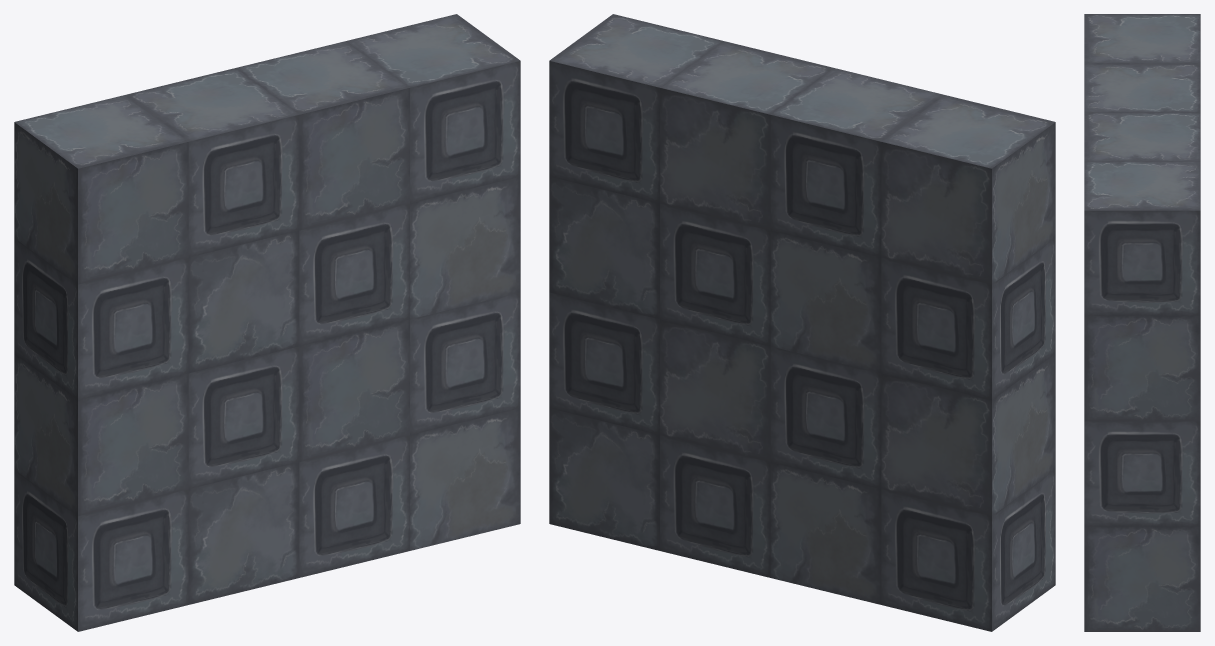
Rendered from Castle Sig Sag 4x4.fbx.
3 renders of one model, left to right at view 1: azimuth 30°, elevation 25°; view 2: azimuth 150°, elevation 25°; view 3: azimuth 270°, elevation 25°, orthographic. The views are drawn at different scales.
Visible parts, largest first — view 1: Castle Sig Sag 4x4; view 2: Castle Sig Sag 4x4; view 3: Castle Sig Sag 4x4.
Boxes of the visible parts, bbox=[...] form: Castle Sig Sag 4x4: bbox=[14, 14, 520, 631]; Castle Sig Sag 4x4: bbox=[549, 14, 1055, 631]; Castle Sig Sag 4x4: bbox=[1084, 14, 1200, 631].
Size of the model in its own units: 3 by 3 by 0.75.
